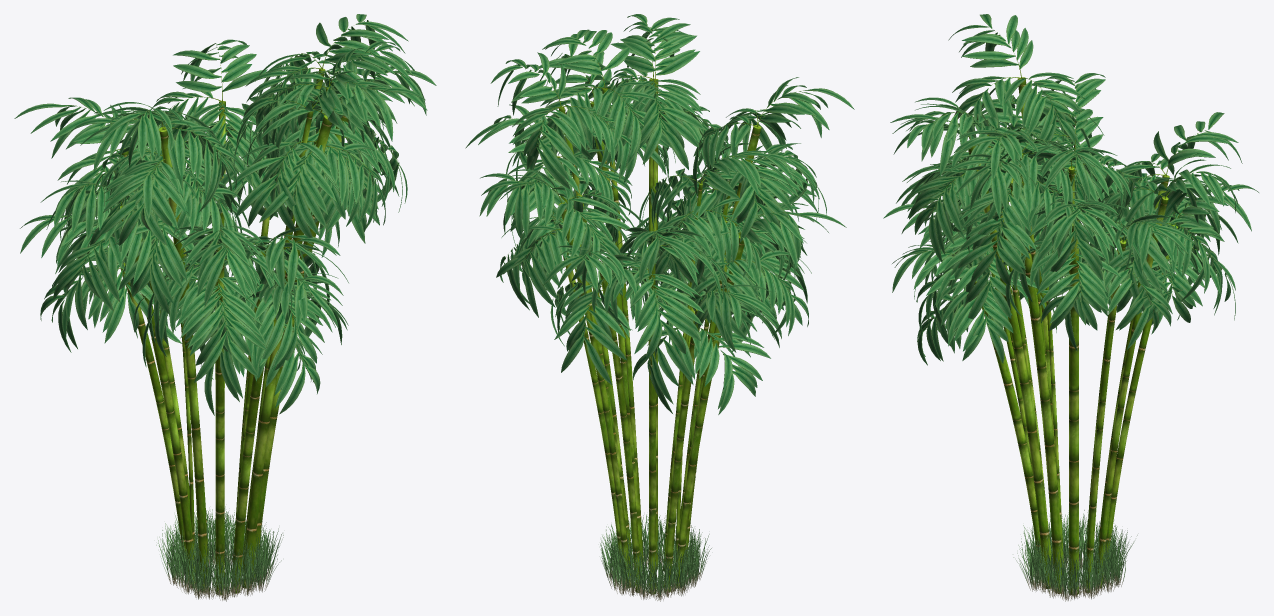
The model's file is bamboo.glb.
3 views of the same model, side by side, from view 1: azimuth 30°, elevation 25°; view 2: azimuth 150°, elevation 25°; view 3: azimuth 270°, elevation 25° (orthographic). The views are drawn at different scales.
Visible parts, largest first — view 1: bamboo_tree; view 2: bamboo_tree; view 3: bamboo_tree.
Part boxes in pixels (left/top/right/bottom): bamboo_tree: left=14, top=14, right=436, bottom=601; bamboo_tree: left=465, top=14, right=854, bottom=601; bamboo_tree: left=883, top=14, right=1258, bottom=601.
Size of the model in its own units: 312 by 431 by 291.
3 materials, 3 textured.
